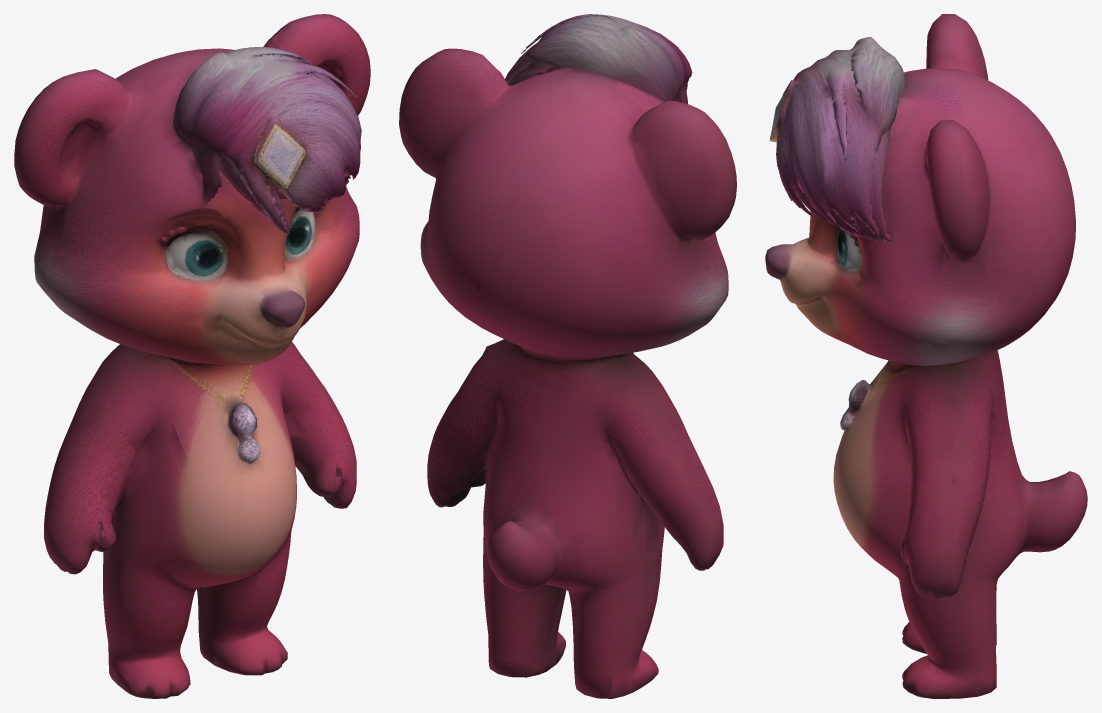
File: amie.glb
The picture shows the model from 3 angles, left to right: view 1: azimuth 30°, elevation 25°; view 2: azimuth 150°, elevation 25°; view 3: azimuth 270°, elevation 25°; orthographic projection. The views are drawn at different scales.
Visible parts, largest first — view 1: Amie_Companion; view 2: Amie_Companion; view 3: Amie_Companion.
Part boxes in pixels (x1,y1,x2,y2): Amie_Companion: (14,14,370,698); Amie_Companion: (399,14,736,698); Amie_Companion: (765,14,1087,698).
Size of the model in its own units: 0.6595 by 1.17 by 0.5539.
1 material, 1 textured.
